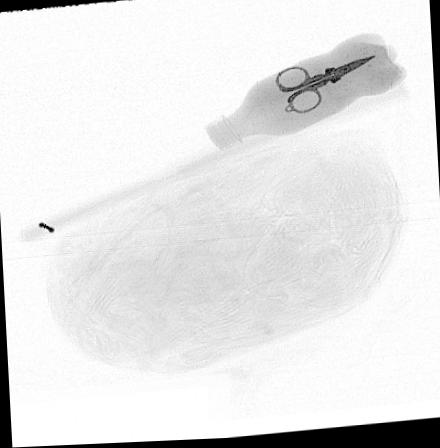Scissors: (273, 60, 375, 117)
